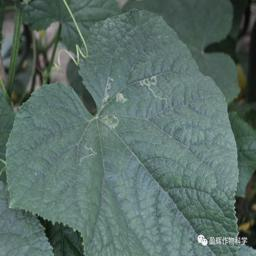liriomyza: (89, 74, 127, 131), (138, 75, 168, 103), (76, 141, 96, 165)
